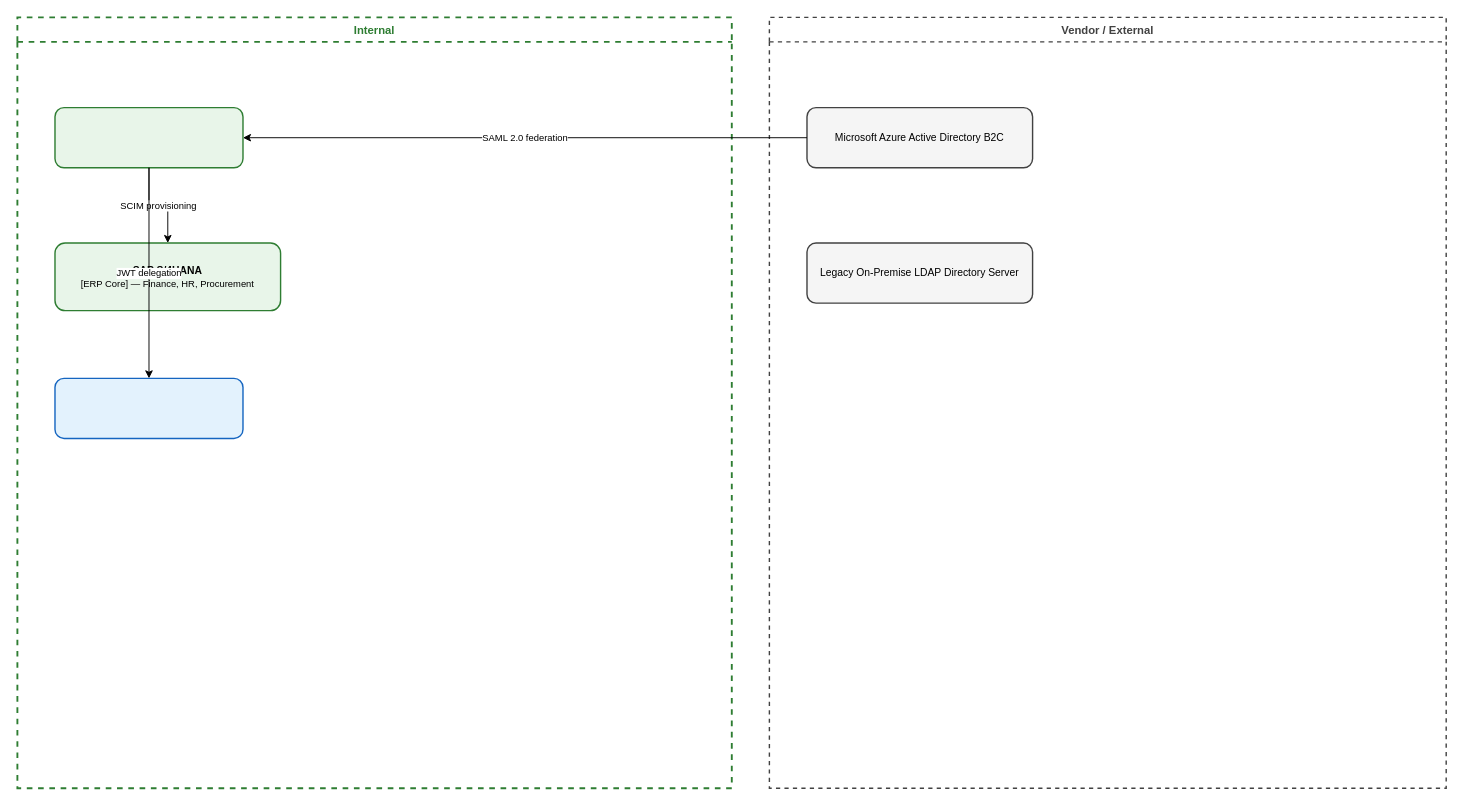
Image size: 1463x805. Some labels were removed from this diagram. The centre of each missing label's shape, as x and y in pixels:
AWS Cognito User Pools: the point at 148,408
Okta Workforce Identity Cloud: the point at 148,137
